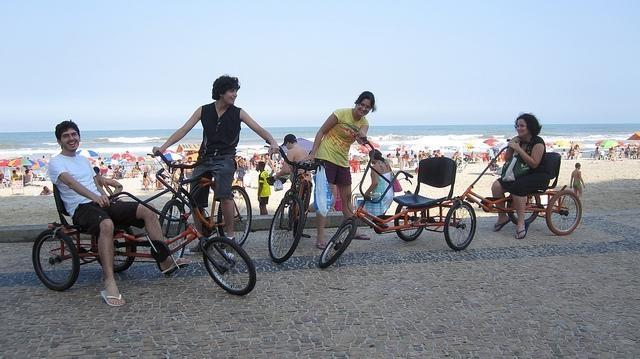bicycle: (34, 186, 258, 295), (318, 122, 476, 270), (444, 141, 584, 250), (150, 151, 252, 244), (268, 147, 324, 264)
